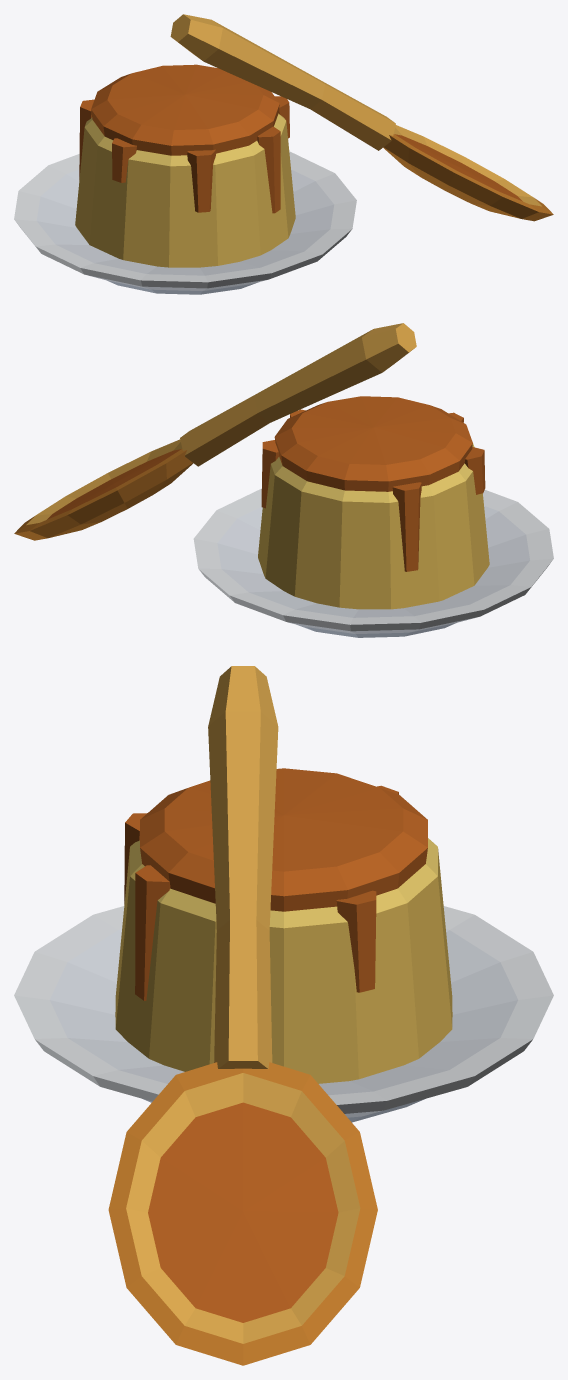
Rendered from habitat_prop_flan.fbx.
3 views of the same model, one above another, from view 1: azimuth 30°, elevation 25°; view 2: azimuth 150°, elevation 25°; view 3: azimuth 270°, elevation 25° (orthographic). The views are drawn at different scales.
Visible parts, largest first — view 1: habitat_prop_flan; view 2: habitat_prop_flan; view 3: habitat_prop_flan.
Boxes of the visible parts, x1,y1,x2,y2 form: habitat_prop_flan: (14, 14, 553, 294); habitat_prop_flan: (14, 323, 553, 637); habitat_prop_flan: (14, 666, 553, 1365).
Bounding box in the file's own units: 1.75 × 0.9391 × 1.06.
